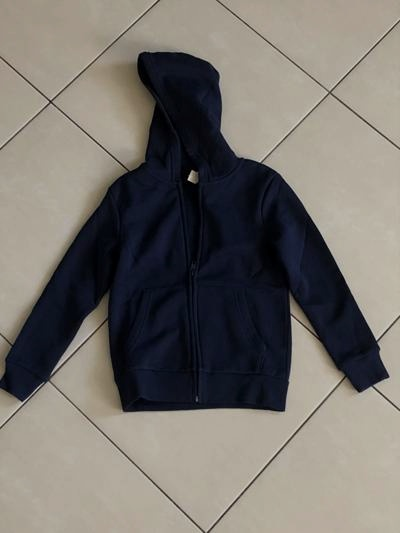Hoodie: (10, 41, 366, 427)
